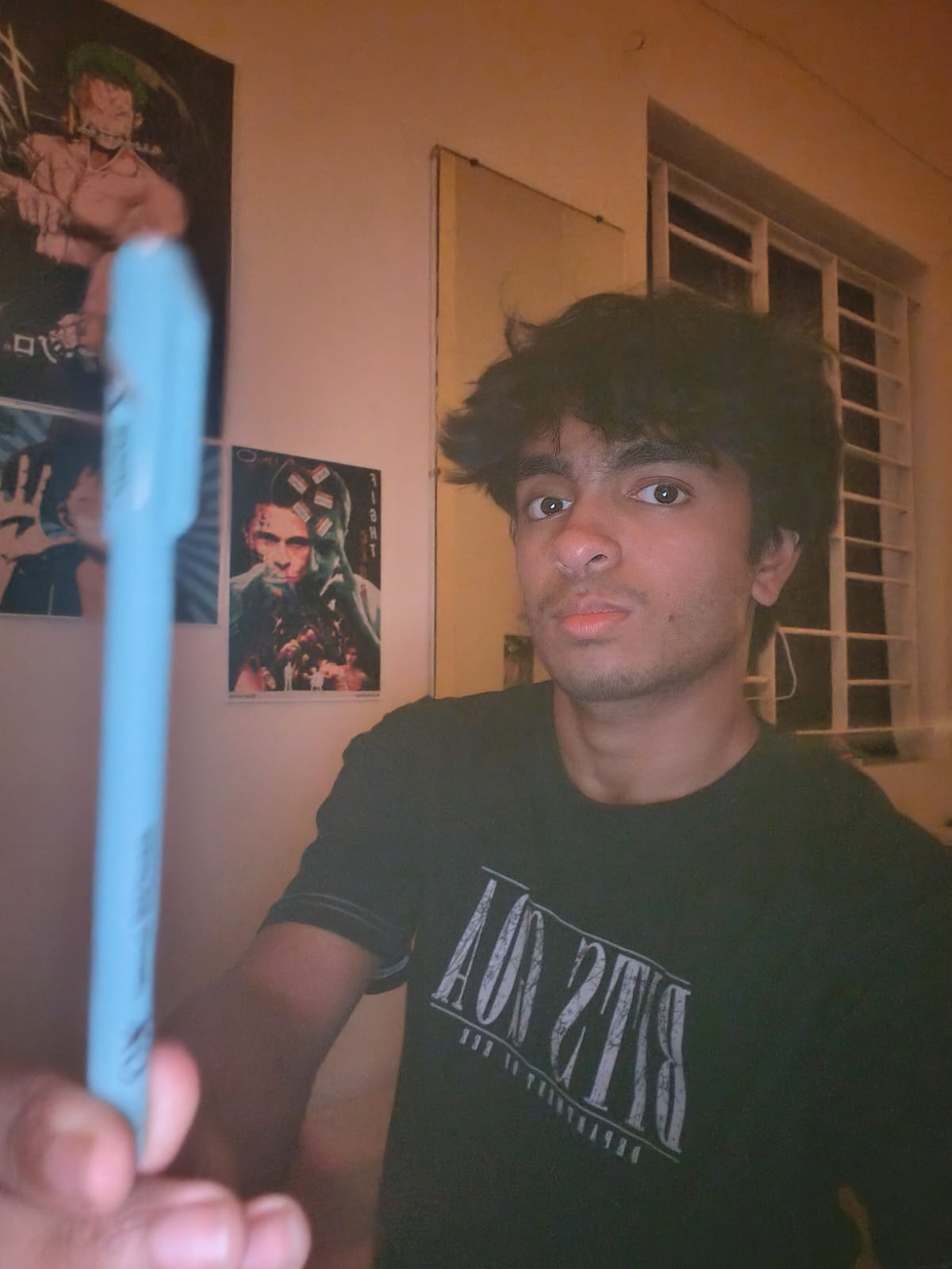pen: (60, 202, 220, 1212)
